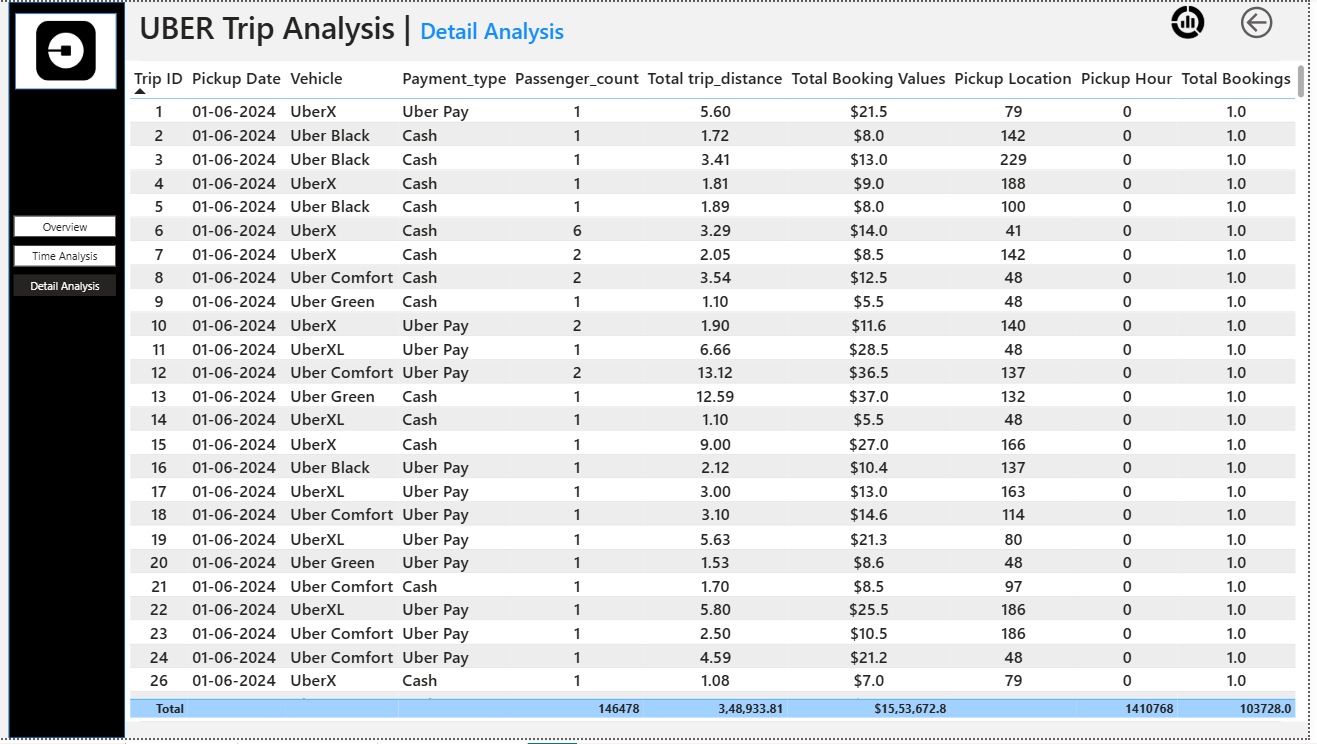

This screenshot's page, from the dashboard's own definition file:
{"tool":"powerbi","page":{"name":"Detail Analysis","canvas":[1600,900],"ordinal":2},"visuals":[{"type":"shape","box":[10.3,0,142,900],"z":0},{"type":"textbox","box":[164.7,0,574.6,60],"z":1000},{"type":"shape","box":[157.8,72,1422,807.9],"z":2000},{"type":"image","box":[157.8,212.7,389.4,12],"z":3000},{"type":"actionButton","box":[1511.2,0,89,50],"z":4000},{"type":"tableEx","fields":{"Values":["Trip Details.Trip ID","Trip Details.Pickup Date","Trip Details.Vehicle","Trip Details.Payment_type","Sum(Trip Details.passenger_count)","Sum(Trip Details.trip_distance)","Trip Details.Total Booking Values","Trip Details.PULocationID","Sum(Trip Details.Hour(HH:MM:SS))","Trip Details.Total Bookings"]},"box":[152.7,72,1447.7,807.9],"z":5000},{"type":"image","box":[1408.2,0,89.2,49.7],"z":6000},{"type":"pageNavigator","box":[17.1,260.7,125.7,99.3],"z":7000},{"type":"shape","box":[18.6,14,124.1,93.1],"z":8000},{"type":"image","box":[12.4,18.6,136.5,82.2],"z":9000}]}

Visuals, with their boxes in screenshot pixels (x1, y1, x2, y2):
shape: region(5, 21, 120, 743)
textbox: region(130, 21, 597, 69)
shape: region(125, 79, 1279, 735)
image: region(125, 193, 441, 203)
actionButton: region(1223, 21, 1296, 61)
tableEx - Trip Details.Trip ID x Trip Details.Pickup Date: region(121, 79, 1296, 735)
image: region(1140, 21, 1212, 61)
pageNavigator: region(10, 232, 112, 313)
shape: region(12, 32, 112, 108)
image: region(7, 36, 117, 102)
